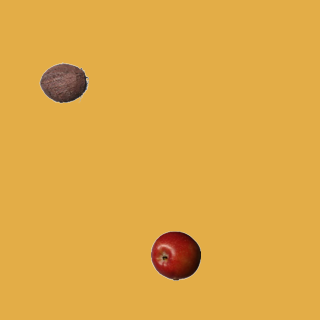Apple Braeburn: (150, 230, 200, 280)
Cocos: (38, 57, 88, 107)
